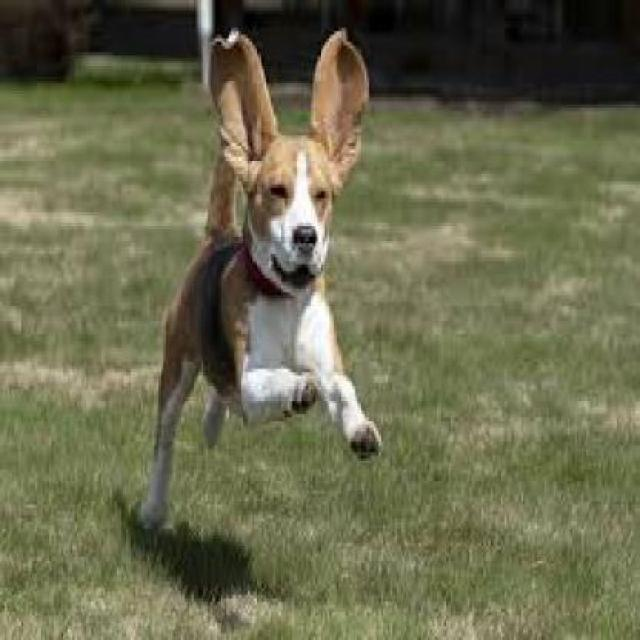Dog: (143, 23, 385, 540)
